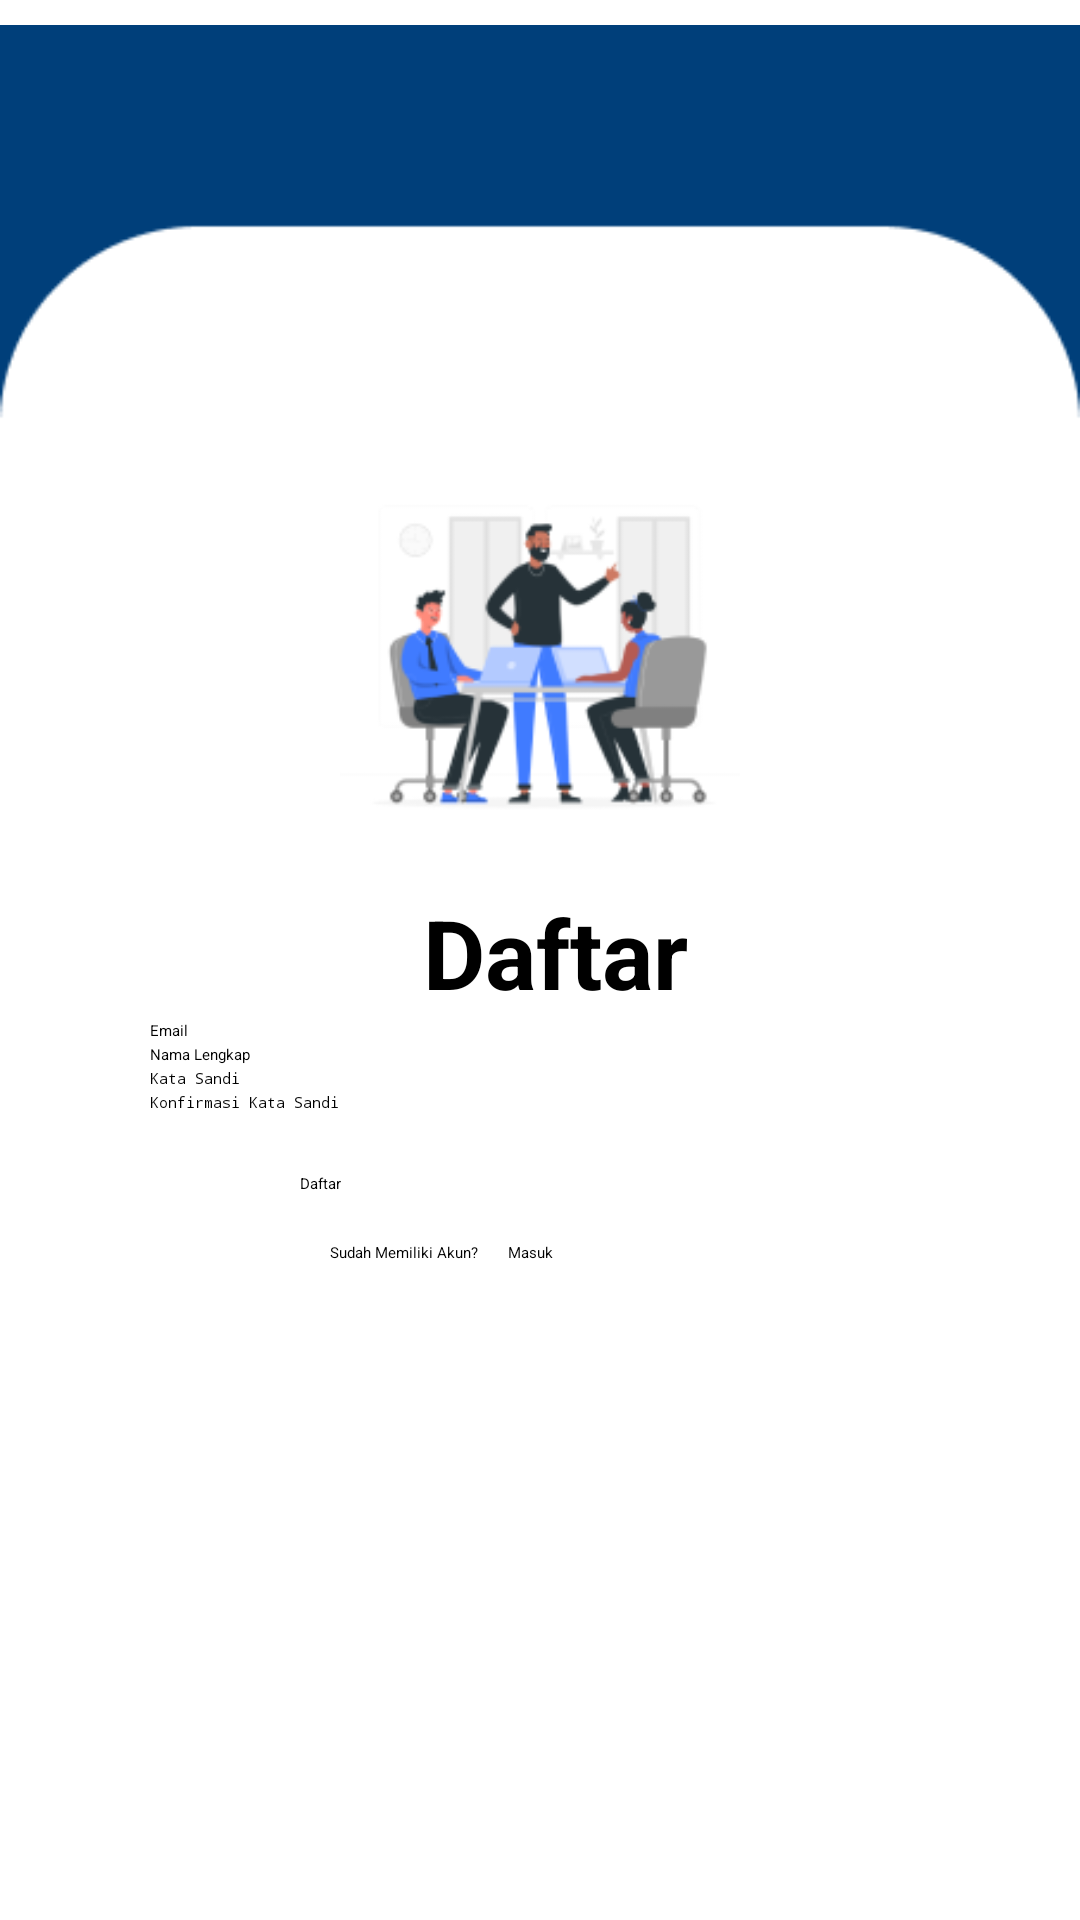

Icon bounding boxes for this 1080×1920 phone screenshot, format bbox=(x1, y1, x2, y2):
workspace: bbox=(389, 518, 707, 805)
